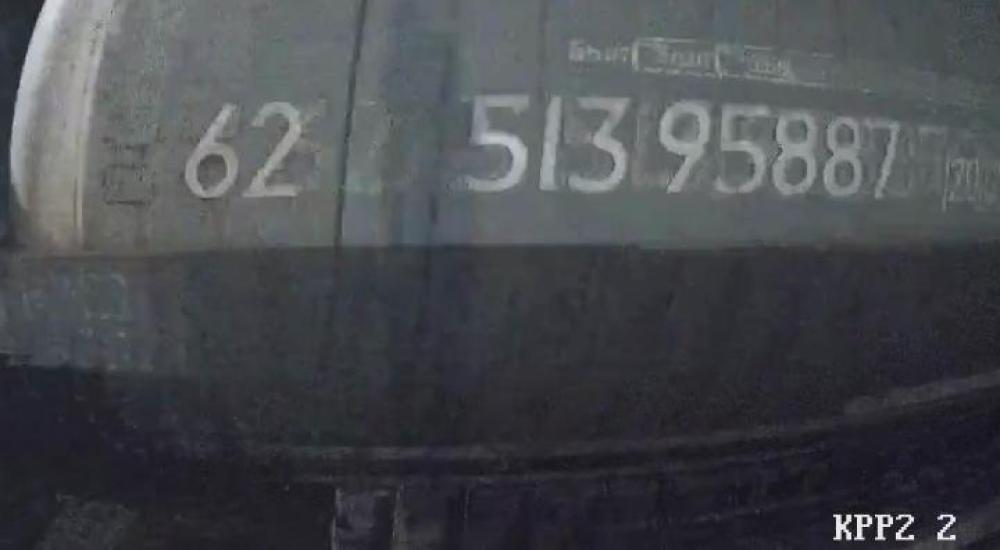Wagon-number: (456, 84, 909, 207)
